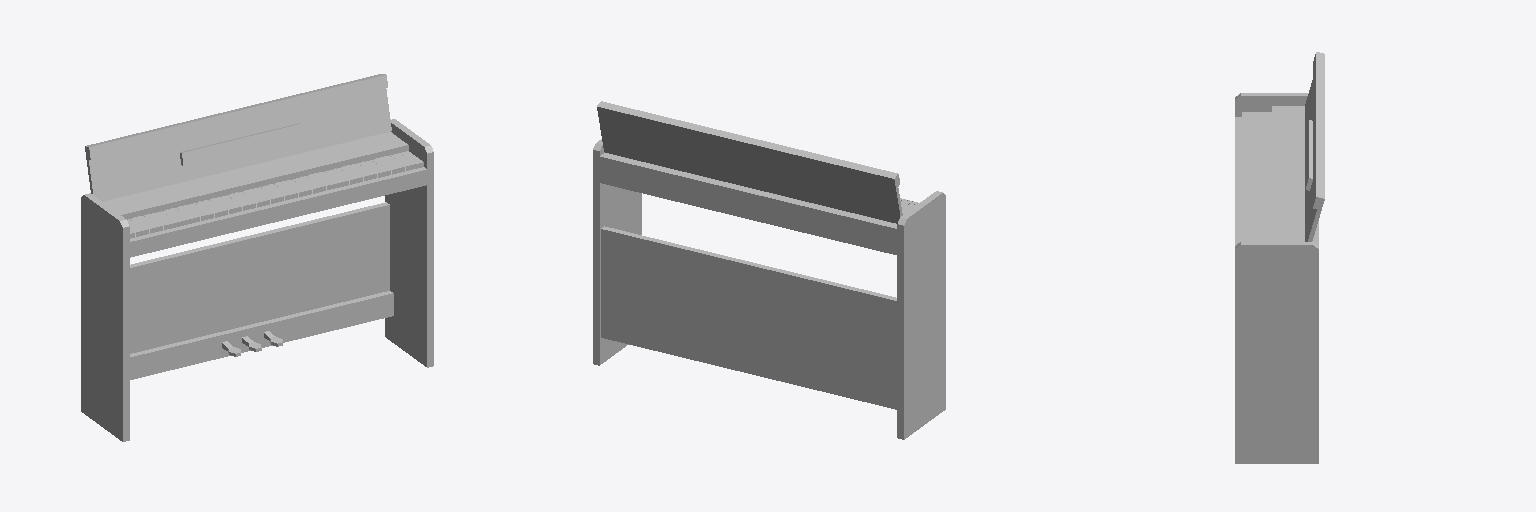
Rendered from musical_instrument_001.obj.
3 views of the same model, side by side, from view 1: azimuth 30°, elevation 25°; view 2: azimuth 150°, elevation 25°; view 3: azimuth 270°, elevation 25° (orthographic).
Visible parts, largest first — view 1: musical_instrument_001; view 2: musical_instrument_001; view 3: musical_instrument_001.
Boxes of the visible parts, box(x1,y1,x2,y2) form: musical_instrument_001: box(81, 74, 433, 441); musical_instrument_001: box(593, 101, 945, 439); musical_instrument_001: box(1235, 52, 1324, 463).
Bounding box in the file's own units: 1.24 × 1.01 × 0.3119.